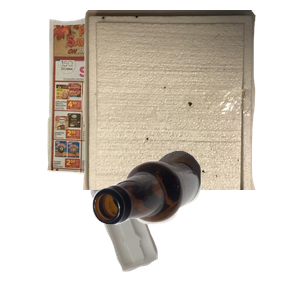glass: (90, 148, 300, 300)
paper: (44, 11, 229, 181)
plastic: (85, 163, 235, 300)
trash: (80, 10, 300, 190)
